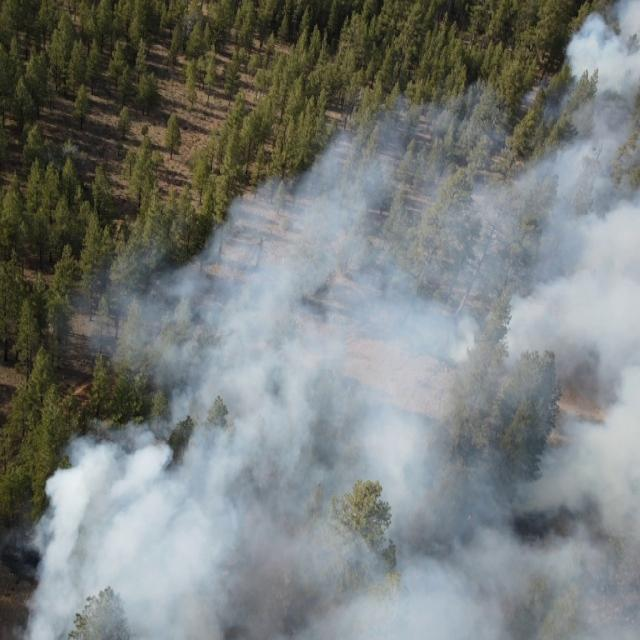smoke: (318, 80, 638, 640), (64, 232, 317, 640), (6, 467, 65, 640), (225, 164, 316, 234), (566, 0, 640, 78)
